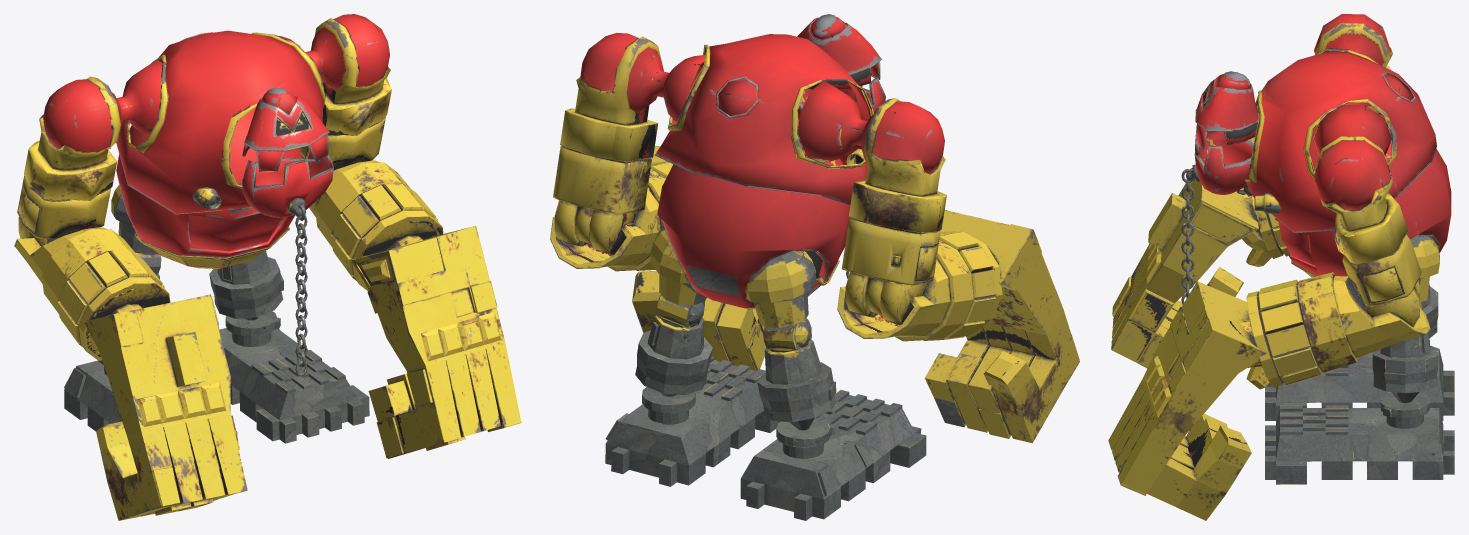
The picture shows the model from 3 angles, left to right: view 1: azimuth 30°, elevation 25°; view 2: azimuth 150°, elevation 25°; view 3: azimuth 270°, elevation 25°; orthographic projection. The views are drawn at different scales.
Visible parts, largest first — view 1: Torus.004; view 2: Torus.004; view 3: Torus.004.
Part boxes in pixels (bbox=[...]): Torus.004: bbox=[14, 14, 521, 520]; Torus.004: bbox=[550, 14, 1079, 520]; Torus.004: bbox=[1108, 14, 1454, 520].
Size of the model in its own units: 564 by 565 by 472.
1 material, 1 textured.
